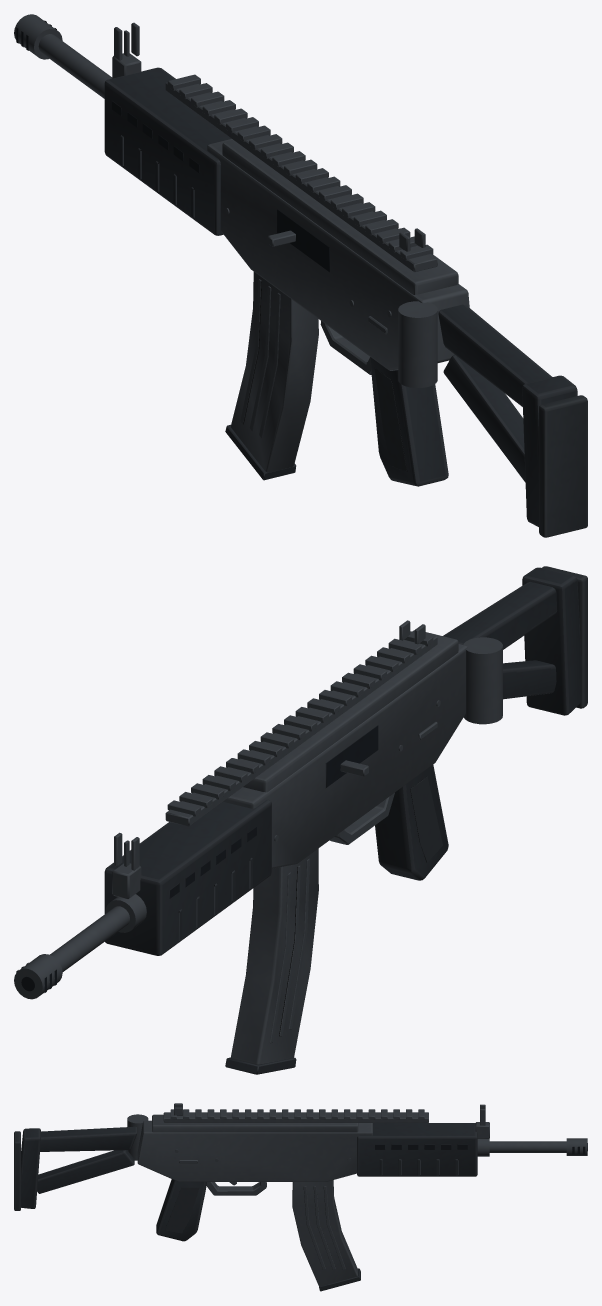
The model's file is fuzil.glb.
3 views of the same model, one above another, from view 1: azimuth 30°, elevation 25°; view 2: azimuth 150°, elevation 25°; view 3: azimuth 270°, elevation 25° (orthographic). The views are drawn at different scales.
Parts seen in each view (by area): view 1: Fuzil, Coronha, Carregador; view 2: Fuzil, Coronha, Carregador; view 3: Fuzil, Coronha, Carregador.
Boxes of the visible parts, <box> form: Fuzil: <box>14,14,469,486</box>; Coronha: <box>398,301,587,537</box>; Carregador: <box>225,272,318,480</box>; Fuzil: <box>14,620,467,999</box>; Coronha: <box>443,566,587,724</box>; Carregador: <box>225,848,318,1074</box>; Fuzil: <box>137,1103,587,1241</box>; Coronha: <box>14,1114,148,1210</box>; Carregador: <box>292,1180,360,1291</box>.
Bounding box in the file's own units: 0.0813 × 0.332 × 0.95.
Materials: 1 (1 with a texture image).
